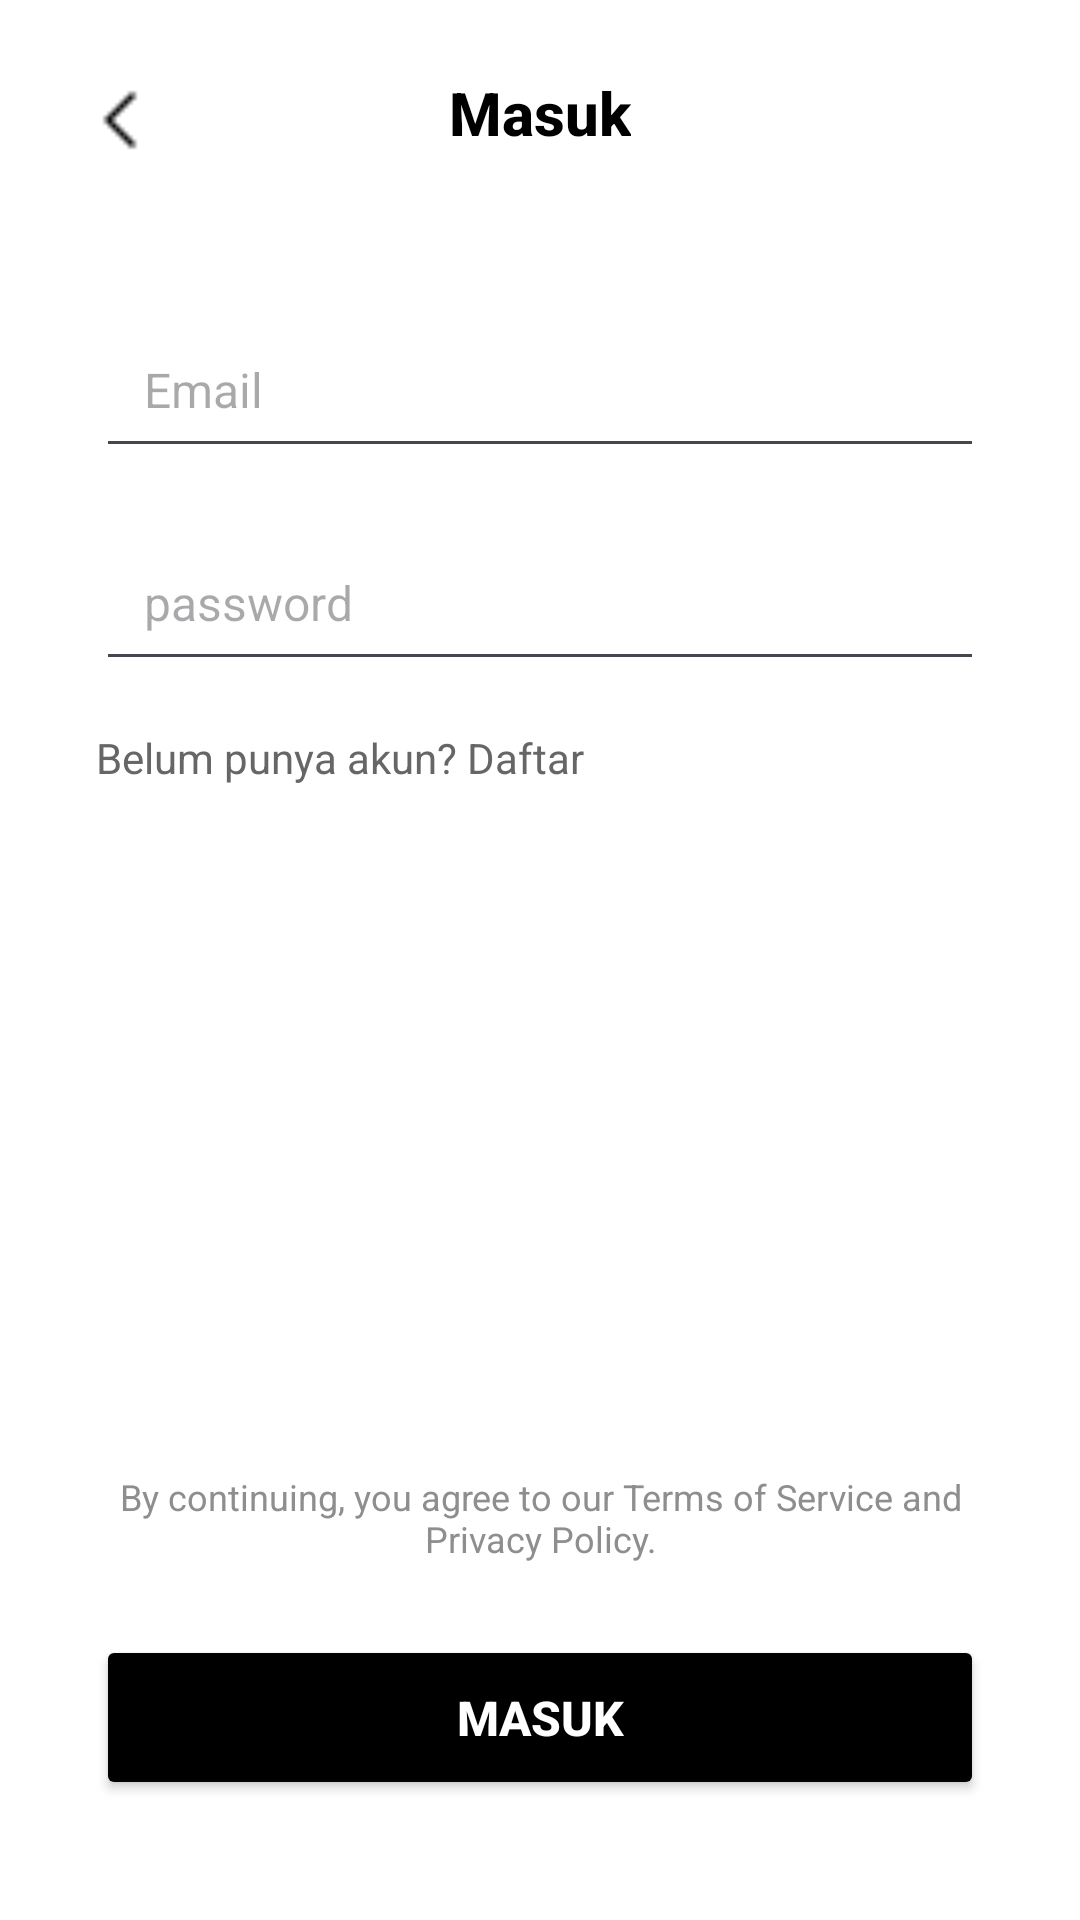

Screen size 1080 x 1920. Icon name, then its center in pixels as point (x, y):
back: point (120, 120)
